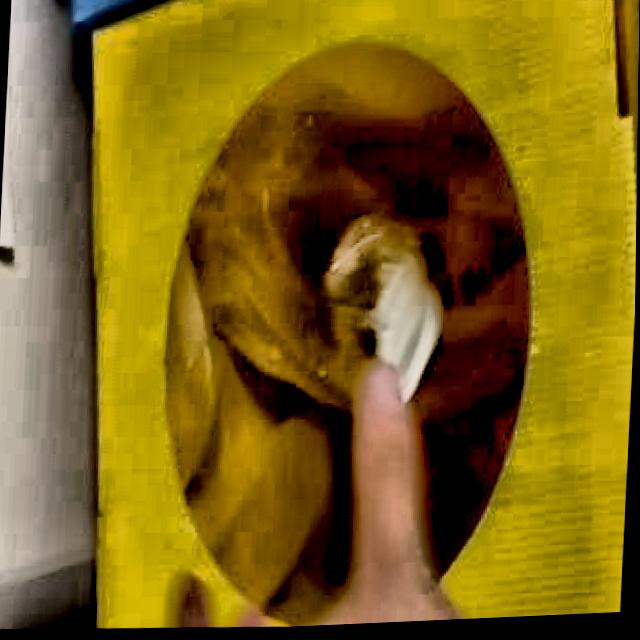plastic: (325, 221, 444, 405)
